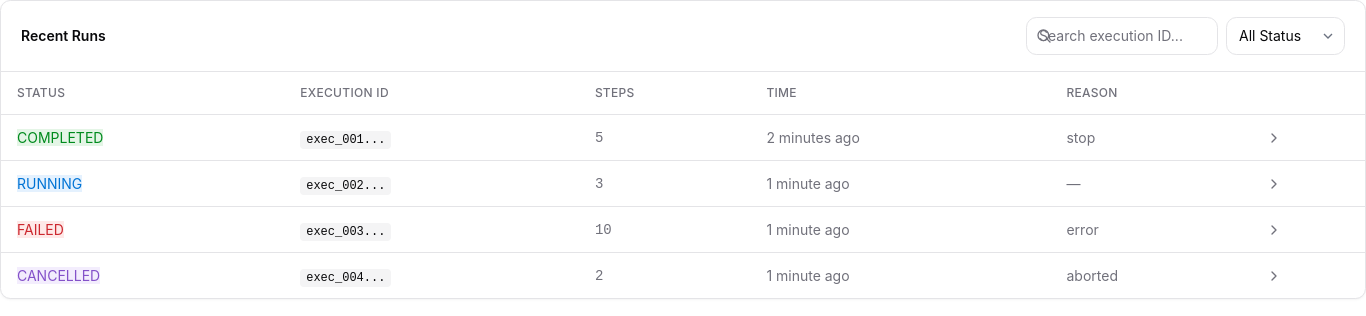
Test: RunTable Component › should filter runs by status
Select "Running" in the dropdown showing "All Status" at (1286, 36), box [1226,17,1345,55]
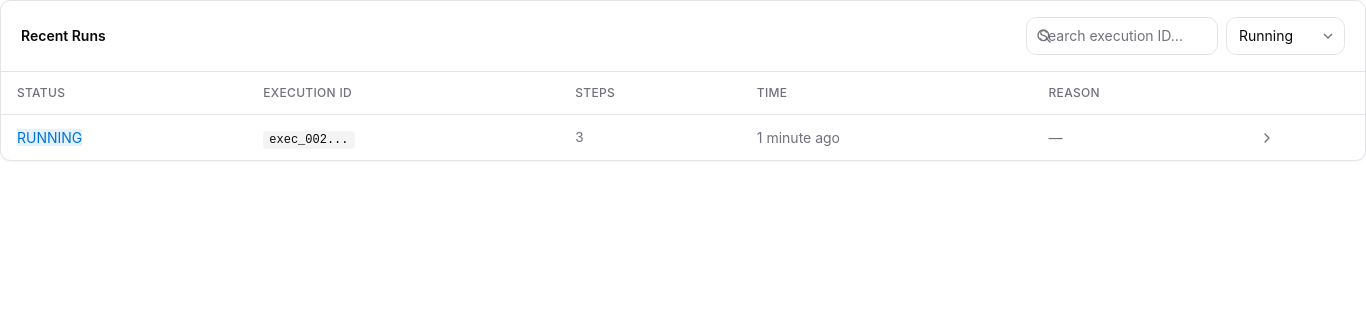
Expected: the text "exec_002..." is shown, [263,131,354,149]
Result: the text "exec_001" is gone
